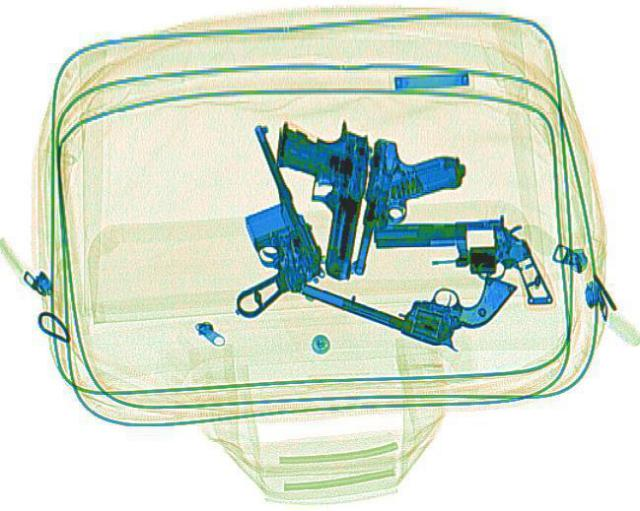Gun: (161, 121, 343, 320), (294, 219, 518, 358), (254, 112, 374, 279), (347, 134, 469, 281), (370, 211, 552, 306)
